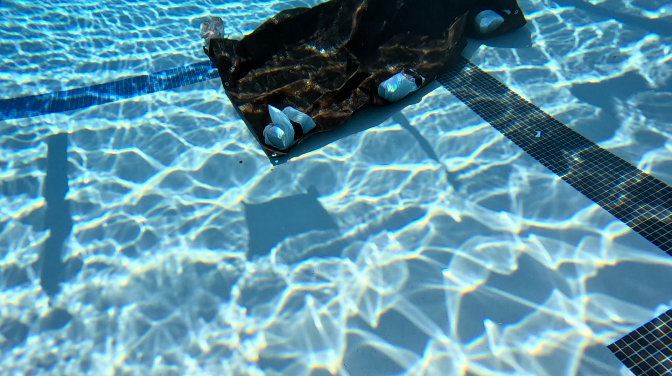sandbag: (209, 0, 524, 164)
